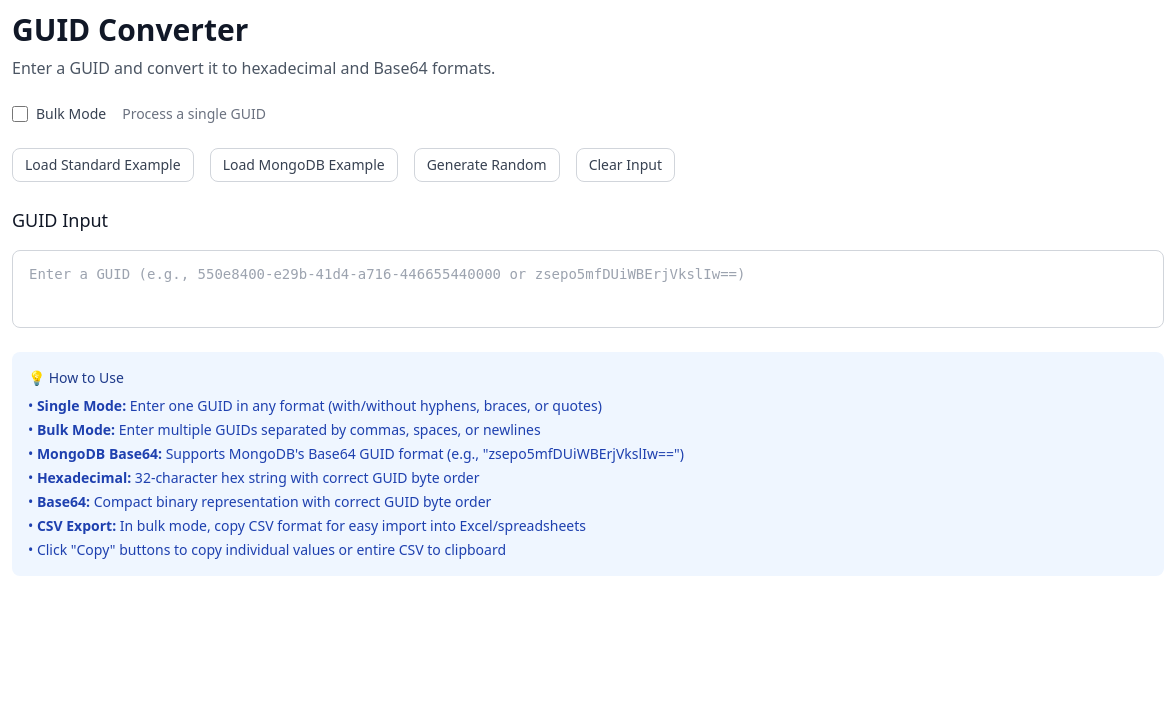
GuidConverter › Single Mode - Basic Functionality › should convert standard GUID format
Replace the text in the text box with "550e8400-e29b-41d4-a716-446655440000" at (588, 286), box [13,251,1163,320]
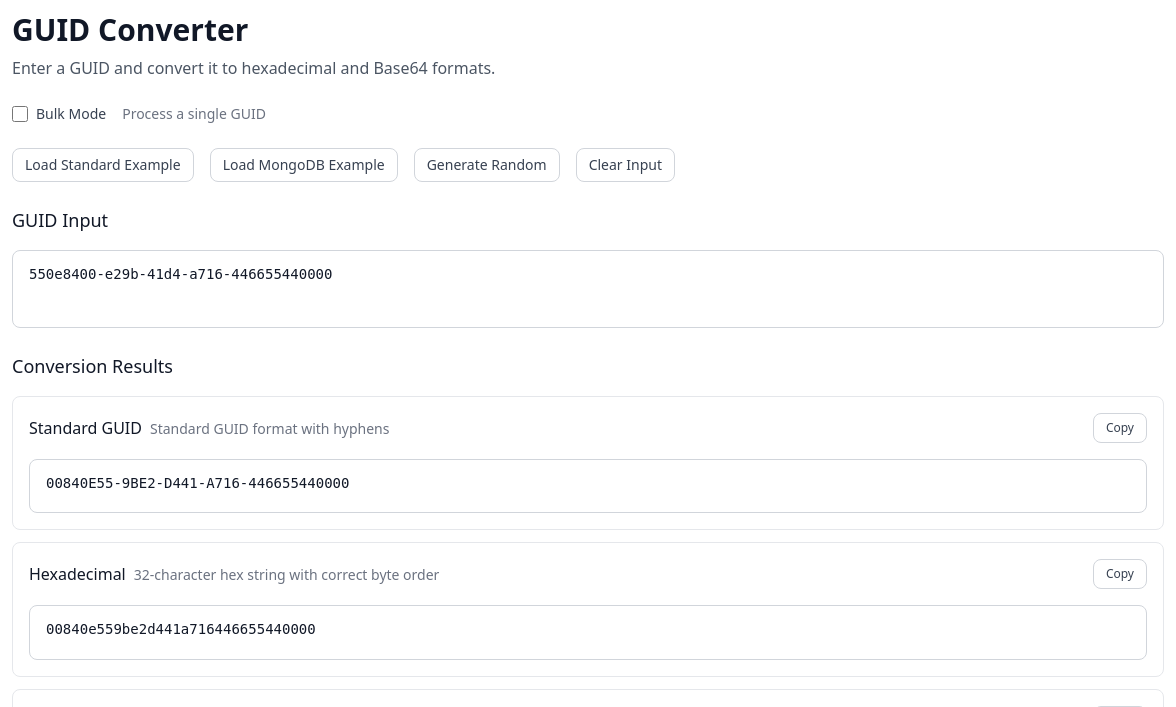
Check: the heading "Conversion Results" is shown, box [12,354,173,378]
Check: the text box below "Standard GUID format with hyphens" is shown, box [30,460,1146,506]
